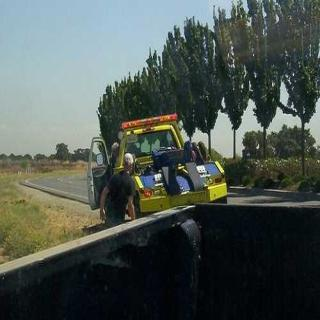Towing_truck: (85, 111, 229, 219)
